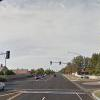Traffic light: (4, 50, 19, 67)
